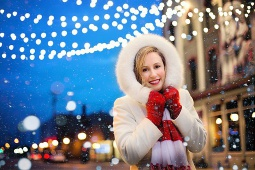female: (130, 44, 171, 98)
